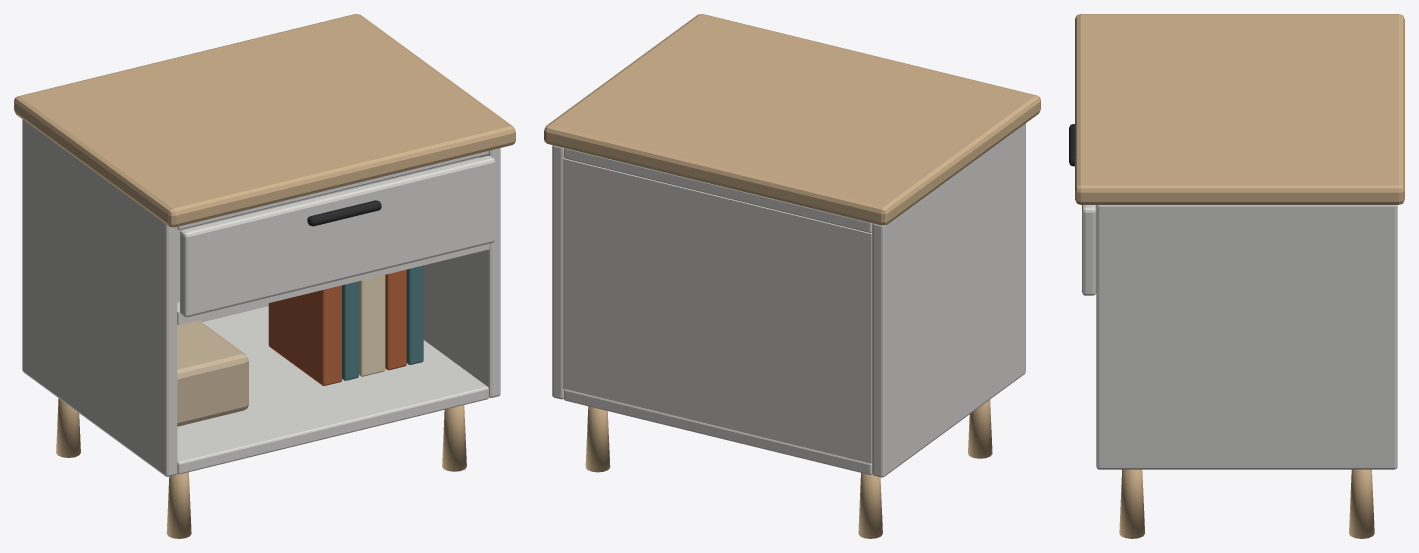
Rendered from nightstandModern.glb.
3 renders of one model, left to right at view 1: azimuth 30°, elevation 25°; view 2: azimuth 150°, elevation 25°; view 3: azimuth 270°, elevation 25°, orthographic. The views are drawn at different scales.
Visible parts, largest first — view 1: nightstandModern; view 2: nightstandModern; view 3: nightstandModern.
Boxes of the visible parts, bbox=[...] form: nightstandModern: bbox=[14, 14, 515, 538]; nightstandModern: bbox=[544, 14, 1040, 538]; nightstandModern: bbox=[1069, 14, 1404, 538].
Size of the model in its own units: 0.58 by 0.56 by 0.468.
